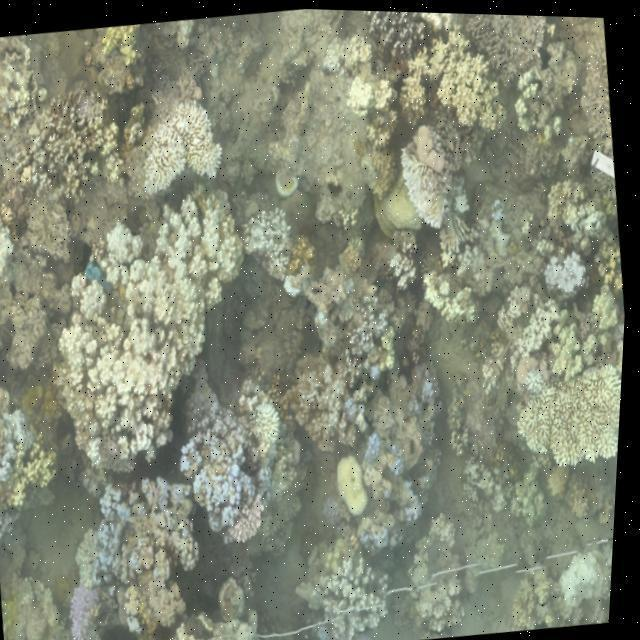Bleached Coral: (36, 226, 268, 428), (324, 356, 448, 568), (75, 458, 211, 611), (174, 391, 306, 548), (127, 94, 246, 210), (235, 184, 317, 302), (535, 230, 598, 322), (548, 541, 618, 612)
